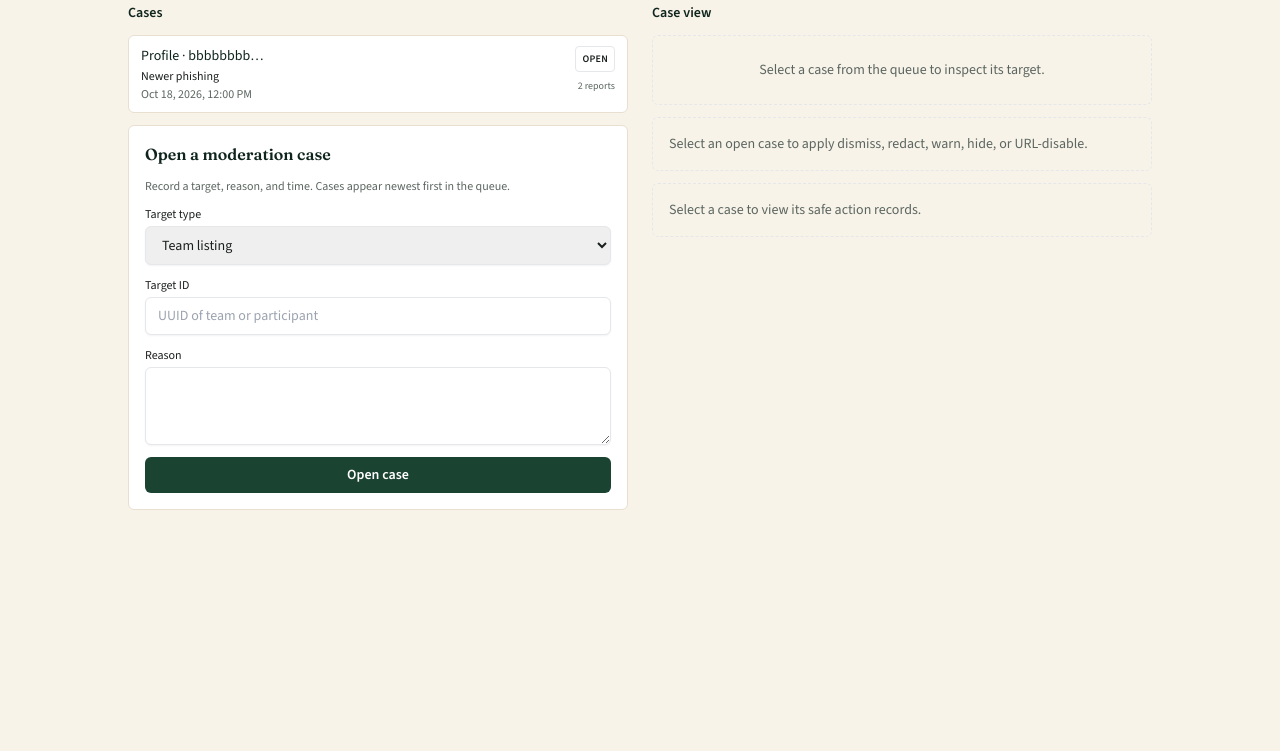
Test case: ModerationSafetyPage (US-026 / #241) › keeps decision reason draft when decide returns validation errors (#246)
The image size is (1280, 751).
Click the button that starts with "Profile · bbbbbbbb…" at (202, 56), box [128, 35, 628, 113]
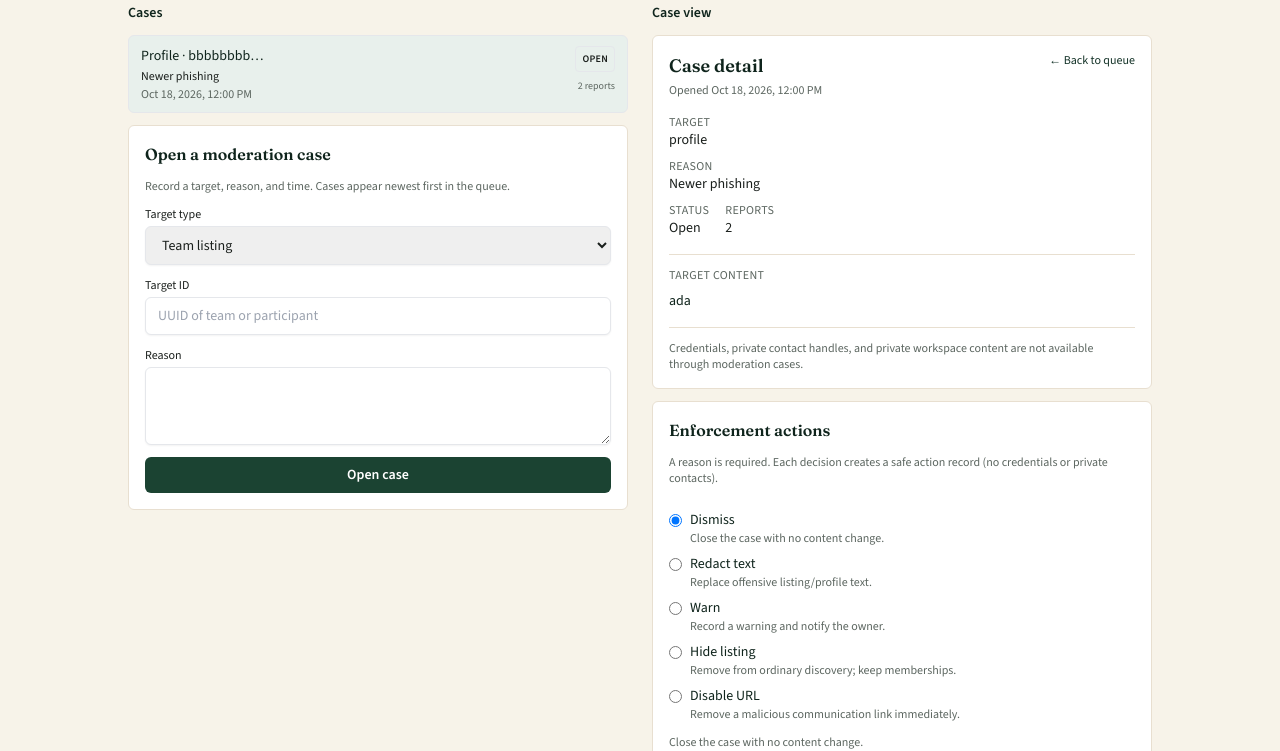
Click the radio button with test id "moderation-action-hide" at (676, 652), box [669, 646, 682, 659]
(page scrolled)
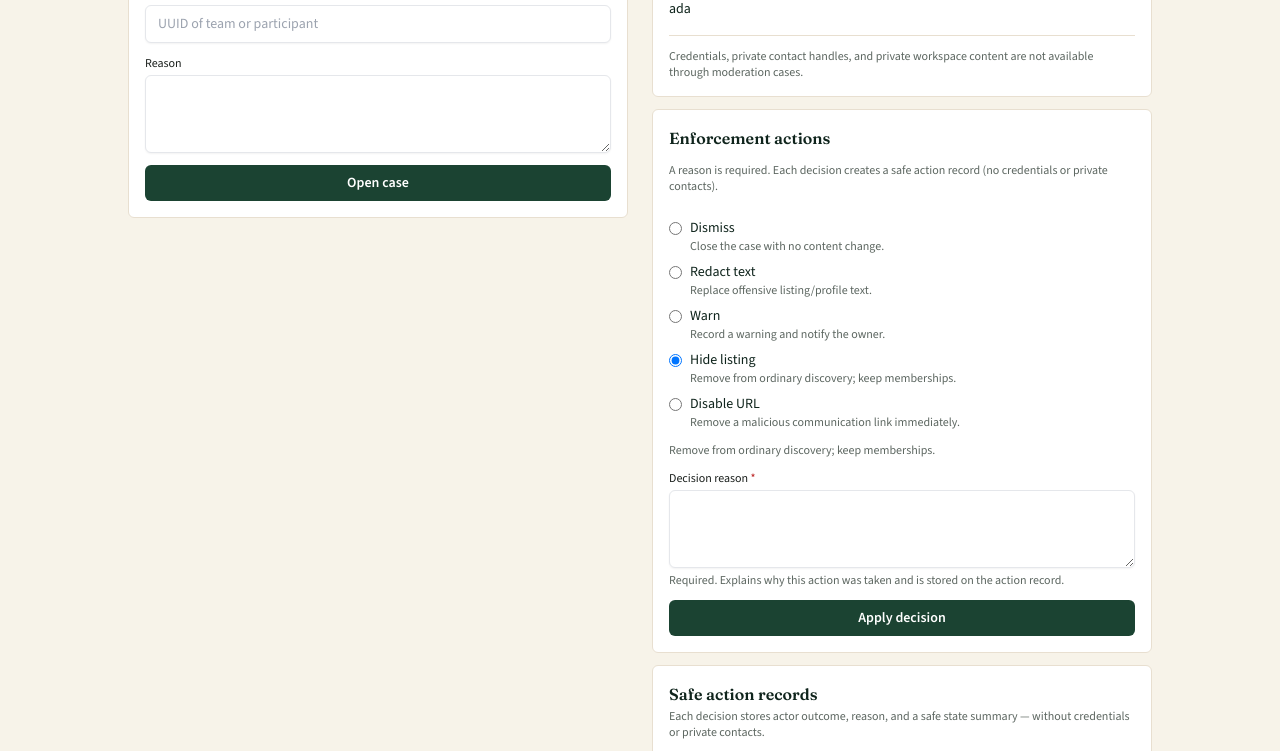
Type "kept draft" into the text box with test id "moderation-decision-reason" at (902, 529), box [669, 490, 1135, 568]
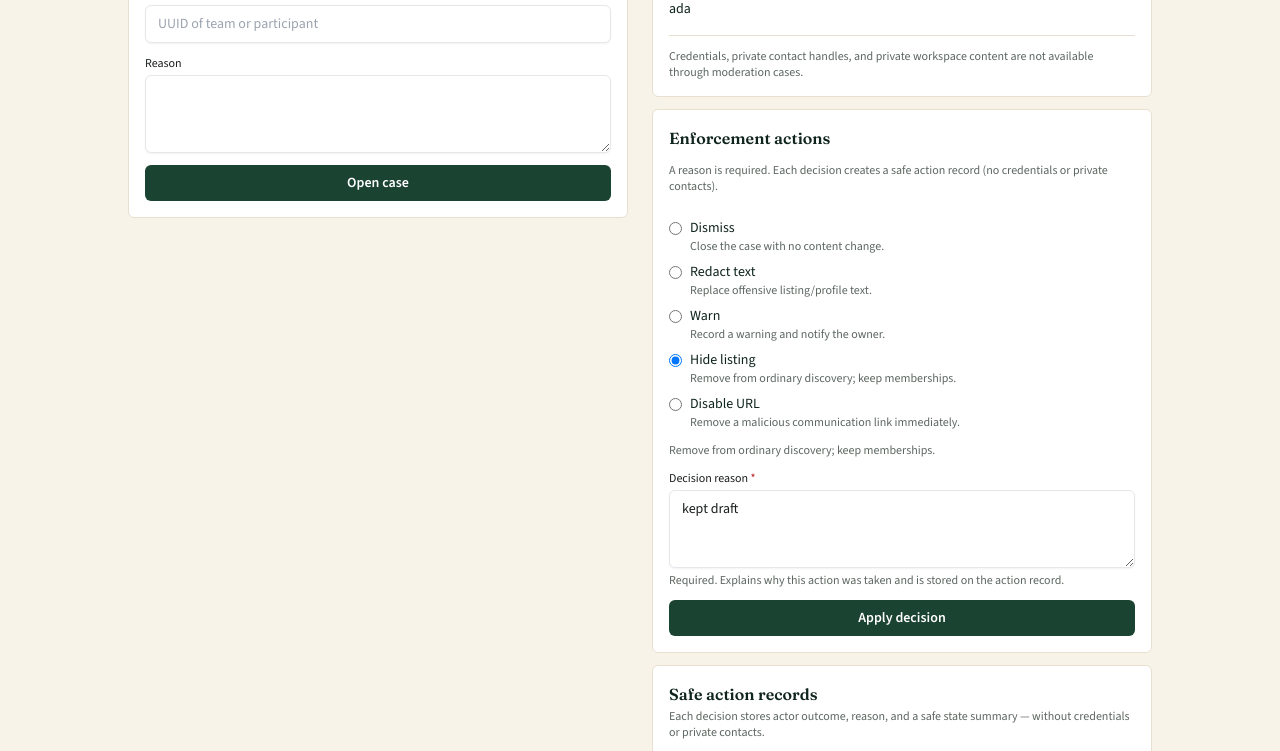
Click the button with test id "moderation-action-submit" at (902, 618), box [669, 600, 1135, 636]
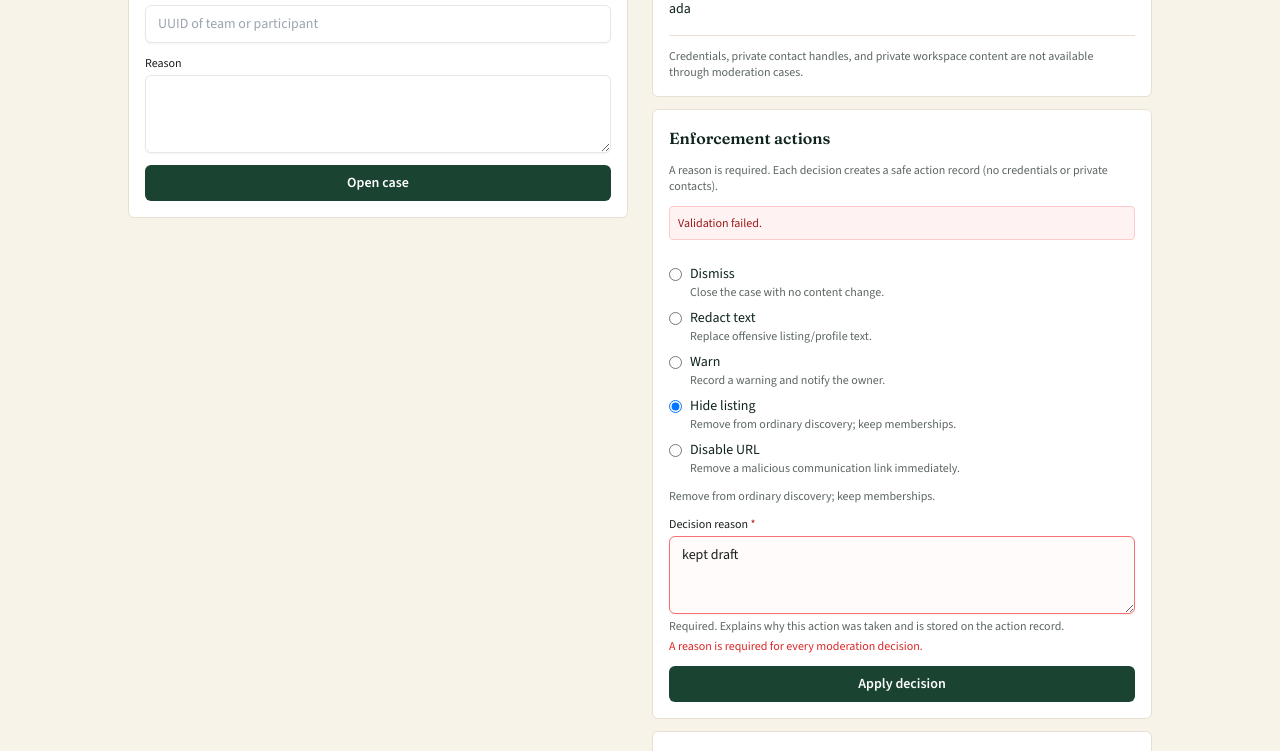
expect the radio button with test id "moderation-action-hide" is checked: met, box [669, 400, 682, 413]
expect the message "Validation failed." is shown: met, box [669, 206, 1135, 240]
